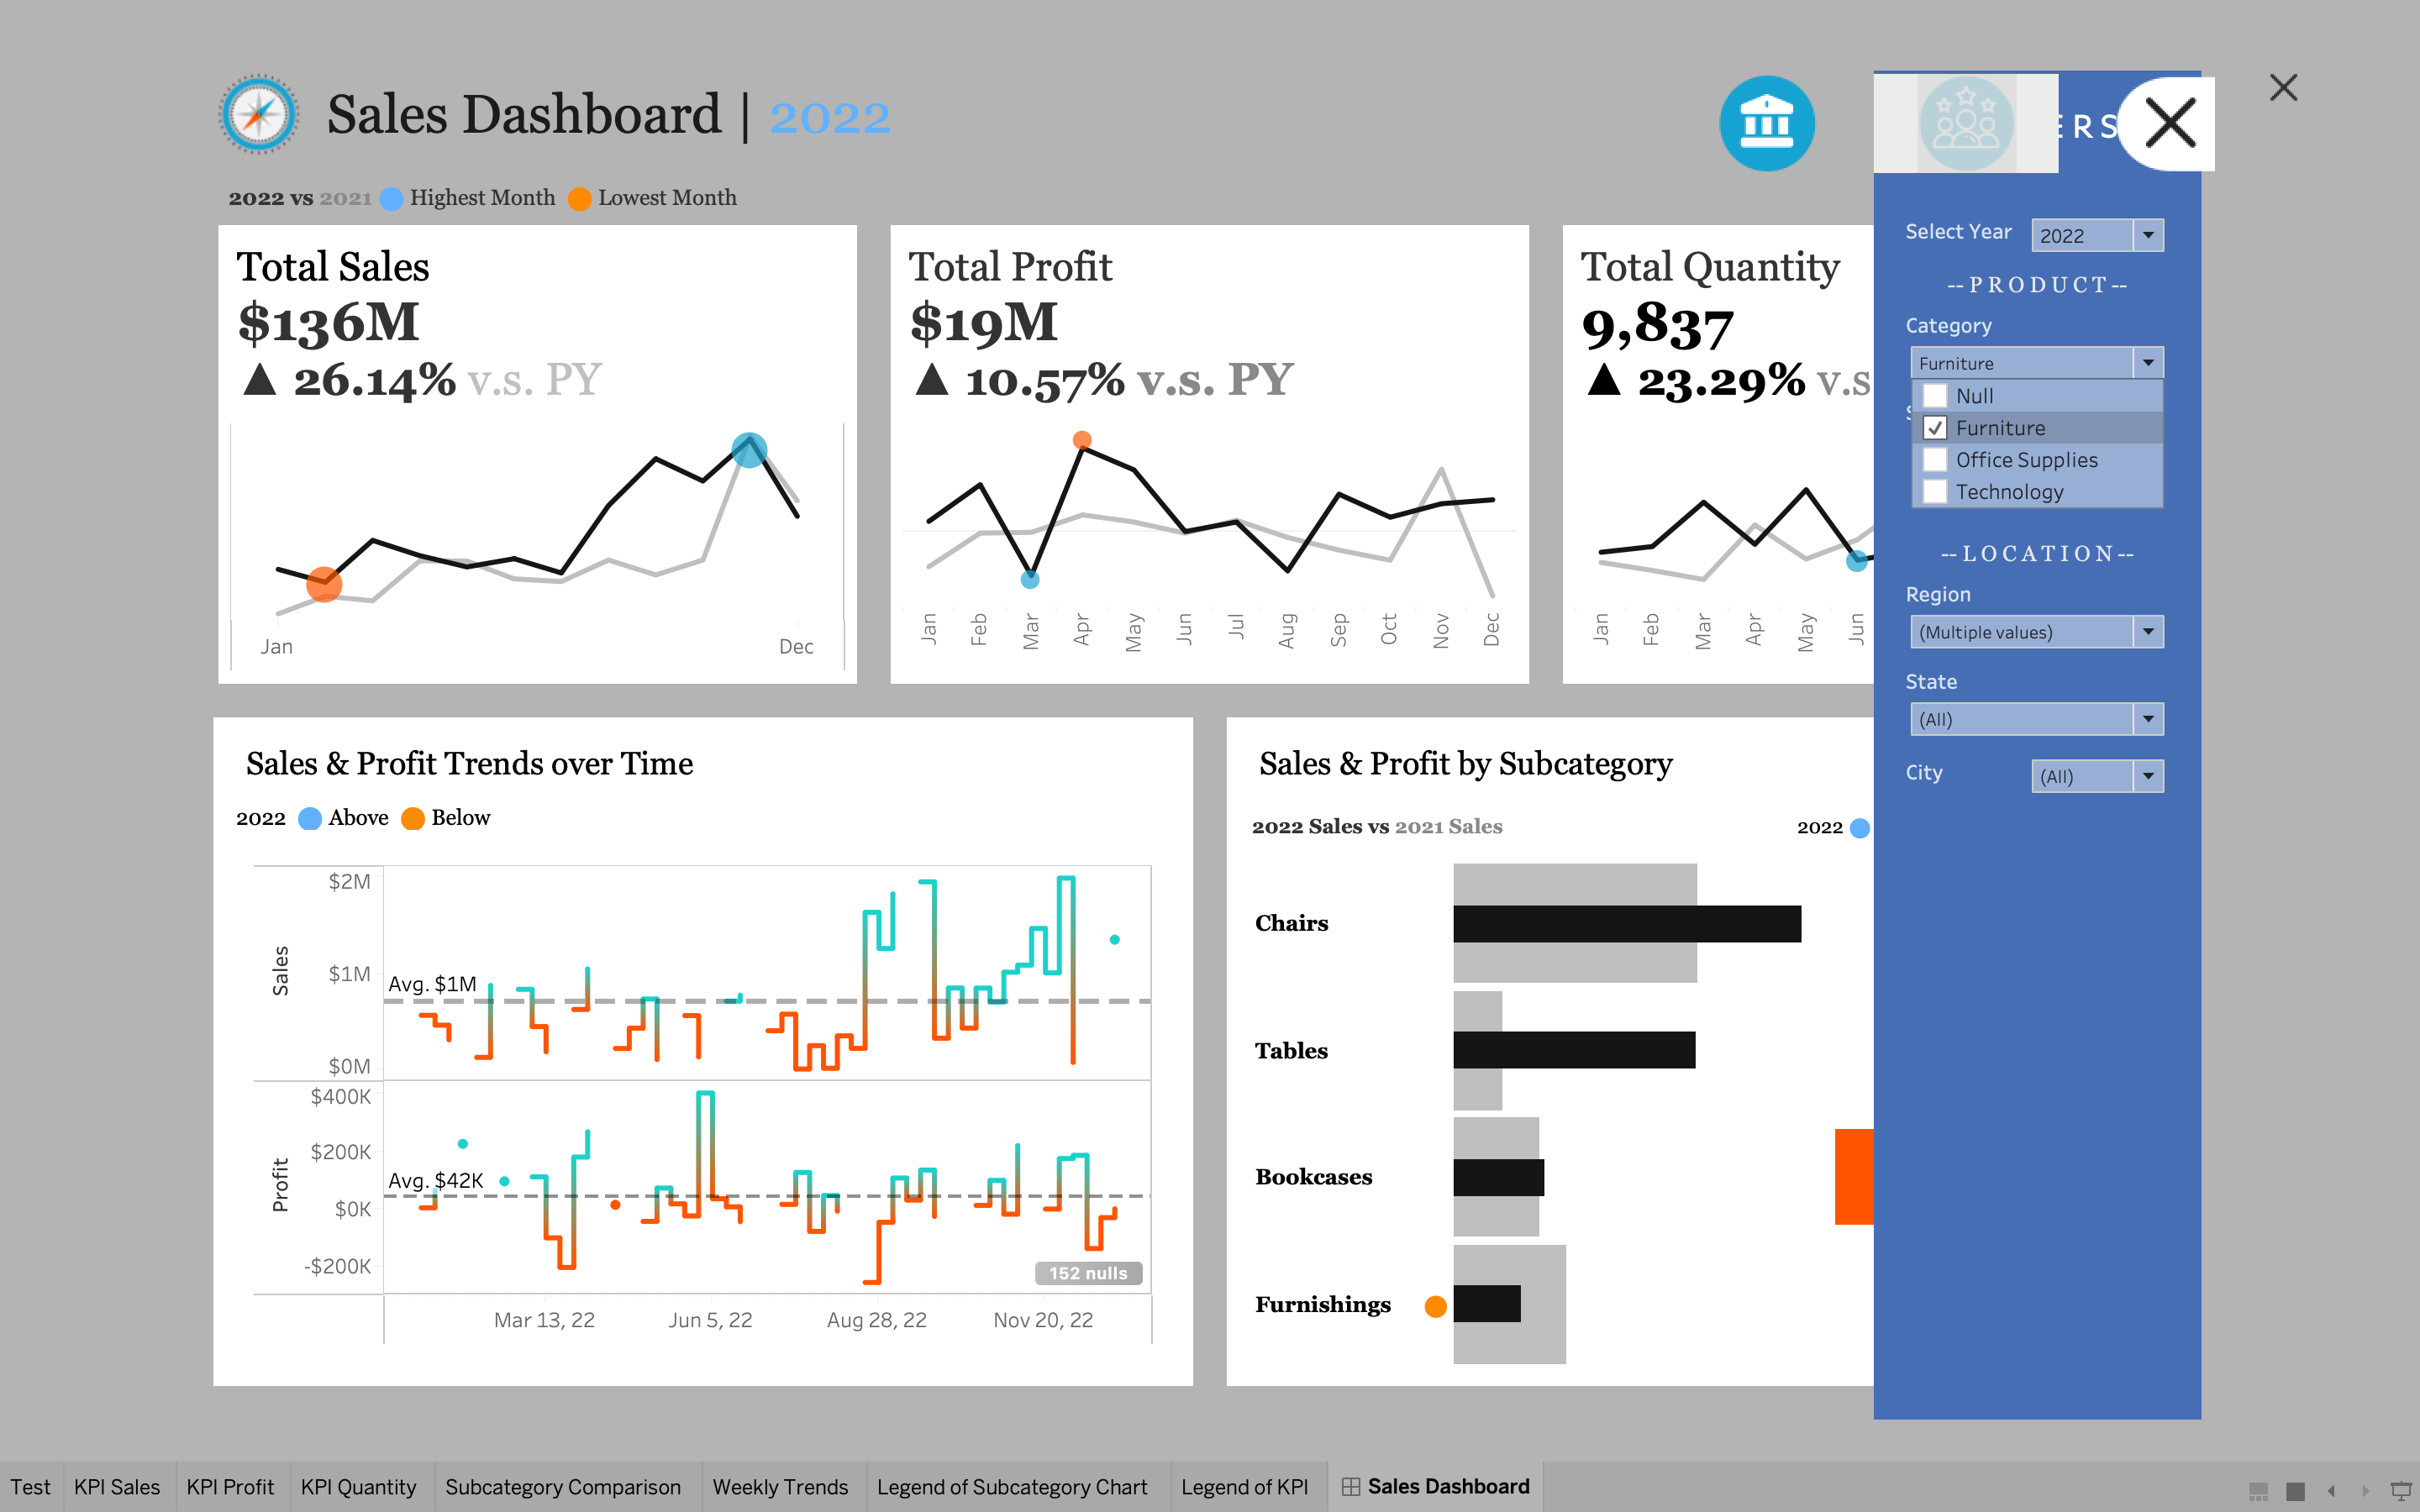

The page's visual inventory and layout, read from the dashboard file:
{"tool":"tableau","page":{"name":"Sales Dashboard","canvas":[1200,800],"ordinal":0},"visuals":[{"type":"image","param":"Image/Icon - Logo.png","box":[0,0,68,67]},{"type":"text","box":[68,0,774,67]},{"type":"dashboard-object","box":[872,5,119,67]},{"type":"dashboard-object","box":[991,5,118,67]},{"type":"text","box":[1010,22,165,34]},{"type":"blank","box":[1010,56,165,32]},{"type":"worksheet","title":"Legend of KPI","mark":"Automatic","box":[0,67,1200,32]},{"type":"parameter","param":"[Parameters].[Parameter 0420630438912004]","box":[1010,88,165,35]},{"type":"worksheet","title":"KPI Sales","mark":"Automatic","rows":["Calculation_0420630443028487"],"cols":["Order Date"],"box":[0,99,400,283]},{"type":"worksheet","title":"KPI Profit","mark":"Automatic","rows":["min/ max sales (copy)_0420630486798354"],"cols":["Order Date"],"box":[400,99,400,283]},{"type":"worksheet","title":"KPI Quantity","mark":"Automatic","rows":["min/ max profit (copy)_0420630514769943"],"cols":["Order Date"],"box":[800,99,400,283]},{"type":"text","box":[1010,123,165,23]},{"type":"filter","title":"KPI Sales","param":"[federated.010s6qv1yrsp8n118k5511jhjum3].[none:Category:nk]","box":[1010,146,165,52]},{"type":"filter","title":"KPI Sales","param":"[federated.010s6qv1yrsp8n118k5511jhjum3].[none:Sub-Category:nk]","box":[1010,198,165,53]},{"type":"blank","box":[1010,251,165,32]},{"type":"text","box":[1010,283,165,23]},{"type":"filter","title":"KPI Sales","param":"[federated.010s6qv1yrsp8n118k5511jhjum3].[none:Region:nk]","box":[1010,306,165,52]},{"type":"filter","title":"KPI Sales","param":"[federated.010s6qv1yrsp8n118k5511jhjum3].[none:State:nk]","box":[1010,358,165,52]},{"type":"text","box":[14,399,569,41]},{"type":"text","box":[617,399,566,42]},{"type":"filter","title":"KPI Sales","param":"[federated.010s6qv1yrsp8n118k5511jhjum3].[none:City:nk]","box":[1010,410,165,43]},{"type":"text","box":[14,440,569,23]},{"type":"worksheet","title":"Legend of Subcategory Chart","mark":"Automatic","box":[617,441,326,32]},{"type":"text","box":[943,441,240,32]},{"type":"worksheet","title":"Weekly Trends","mark":"Automatic","rows":["Calculation_0420630438146048","Calculation_0420630484332556"],"cols":["Order Date"],"box":[14,463,569,320]},{"type":"worksheet","title":"Subcategory Comparison","mark":"Bar","rows":["Sub-Category","Calculation_0420630522867740"],"cols":["Calculation_0420630438481921","Calculation_0420630438146048","Calculation_0420630484332556"],"box":[617,473,566,310]}]}

Visuals, with their boxes on the page's 1200x800 design canvas (x1, y1, x2, y2). These are canvas units, not pixel positions in the 2420x1512 screenshot, which may show the page scaled, cropped or inside an application window:
image: 0 0 68 67
text: 68 0 842 67
dashboard-object: 872 5 991 72
dashboard-object: 991 5 1109 72
text: 1010 22 1175 56
blank: 1010 56 1175 88
"Legend of KPI" worksheet: 0 67 1200 99
parameter: 1010 88 1175 123
"KPI Sales" worksheet: 0 99 400 382
"KPI Profit" worksheet: 400 99 800 382
"KPI Quantity" worksheet: 800 99 1200 382
text: 1010 123 1175 146
"KPI Sales" filter: 1010 146 1175 198
"KPI Sales" filter: 1010 198 1175 251
blank: 1010 251 1175 283
text: 1010 283 1175 306
"KPI Sales" filter: 1010 306 1175 358
"KPI Sales" filter: 1010 358 1175 410
text: 14 399 583 440
text: 617 399 1183 441
"KPI Sales" filter: 1010 410 1175 453
text: 14 440 583 463
"Legend of Subcategory Chart" worksheet: 617 441 943 473
text: 943 441 1183 473
"Weekly Trends" worksheet: 14 463 583 783
"Subcategory Comparison" worksheet (Bar marks): 617 473 1183 783
